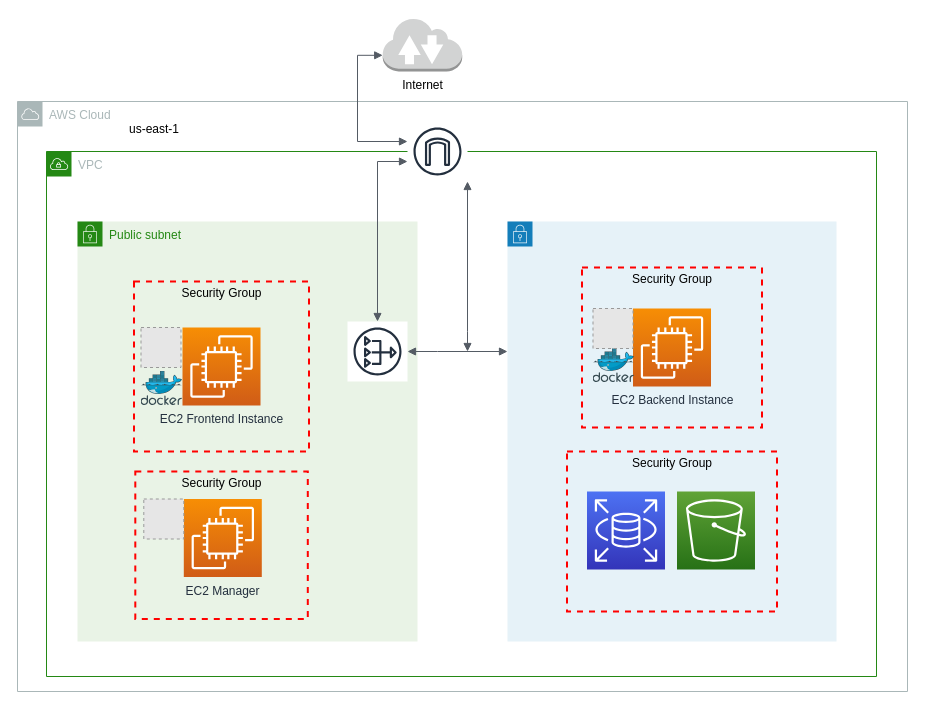
The diagram is 925 pixels wide and 709 high, and some of its shapes have lost their labels. Grey dashed boxes stand in for pictures. Here are the shapes that lost their labels. From the top down, the box of each, then its label:
(406, 120, 468, 182): Internet gateway
(346, 320, 408, 382): NAT gateway
(506, 220, 836, 642): Private subnet
(586, 490, 665, 570): DB MySQL
(676, 490, 755, 570): AWS S3 Bucket
